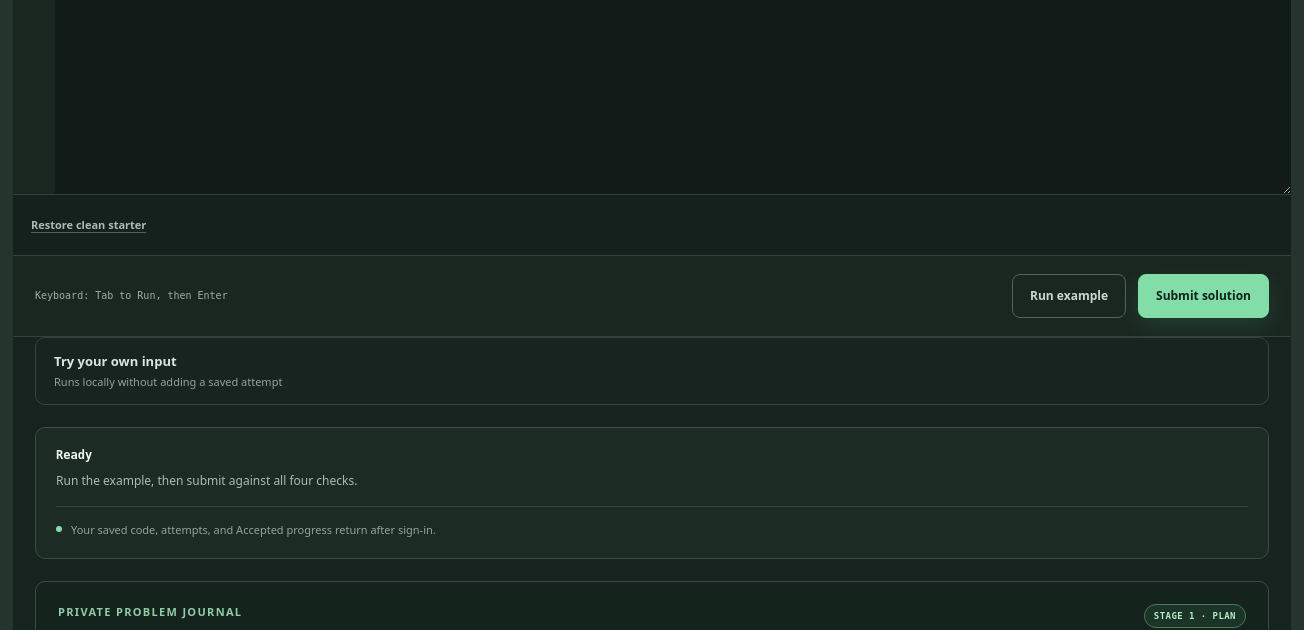
CodingWorkspace › revises and removes a private test case
(page scrolled)
Click the text "Try your own input" at (115, 361), box [54,352,177,370]
(page scrolled)
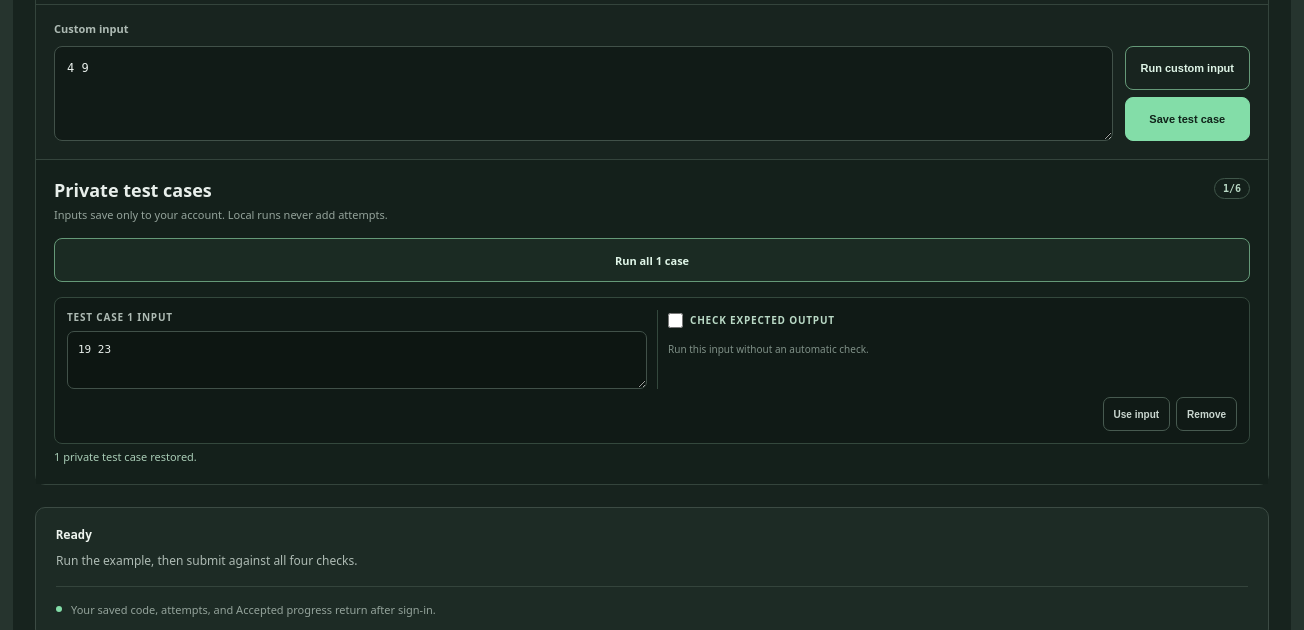
Replace the text in the text box labelled "Test case 1 input" with "21 21" at (357, 360), box [67,331,647,389]
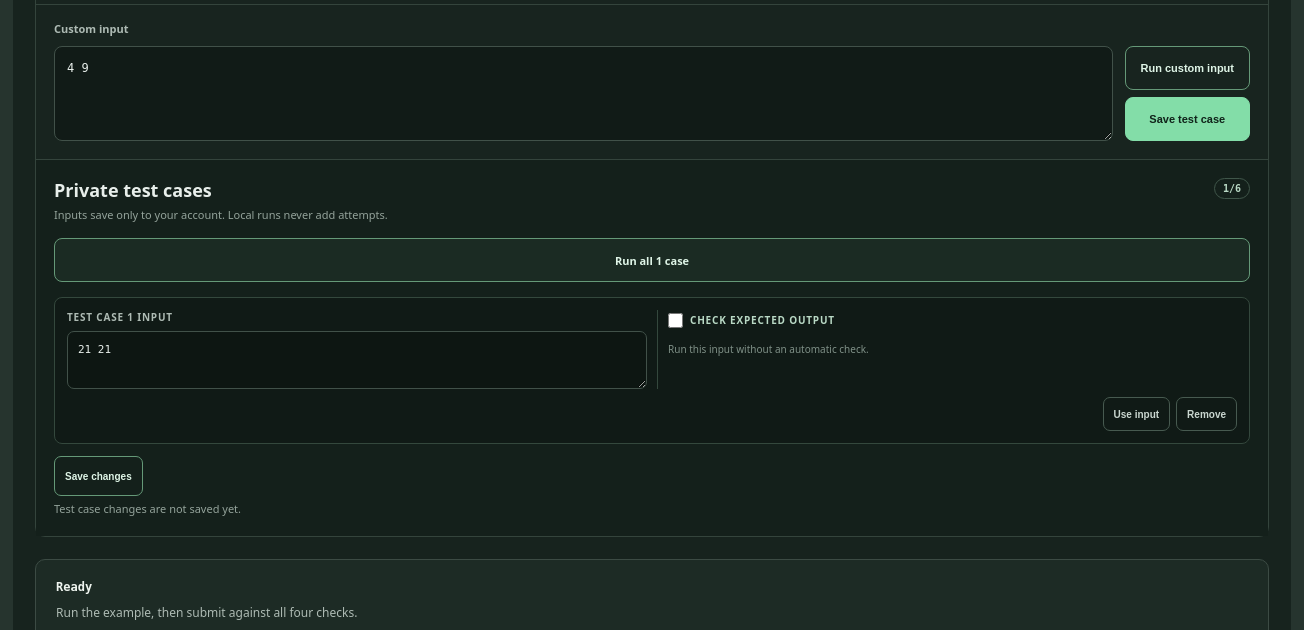
Click the checkbox labelled "Check expected output" at (676, 320), box [668,313,683,328]
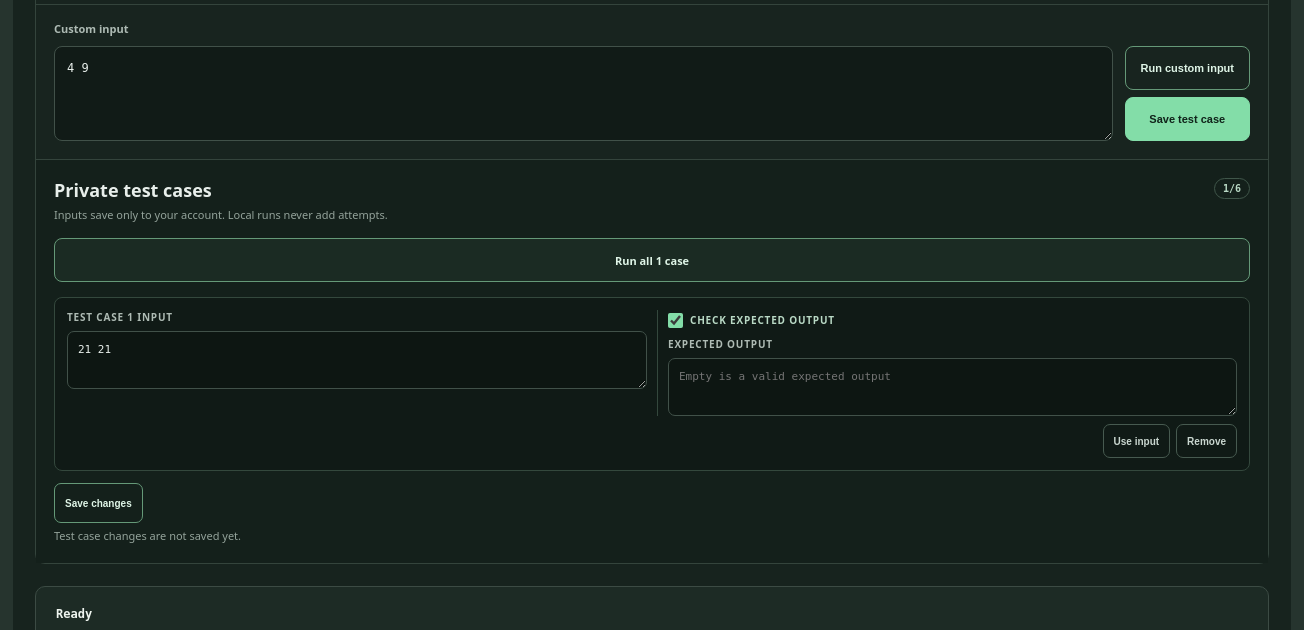
Type "42" into the text box labelled "Expected output" at (952, 387), box [668,358,1237,416]
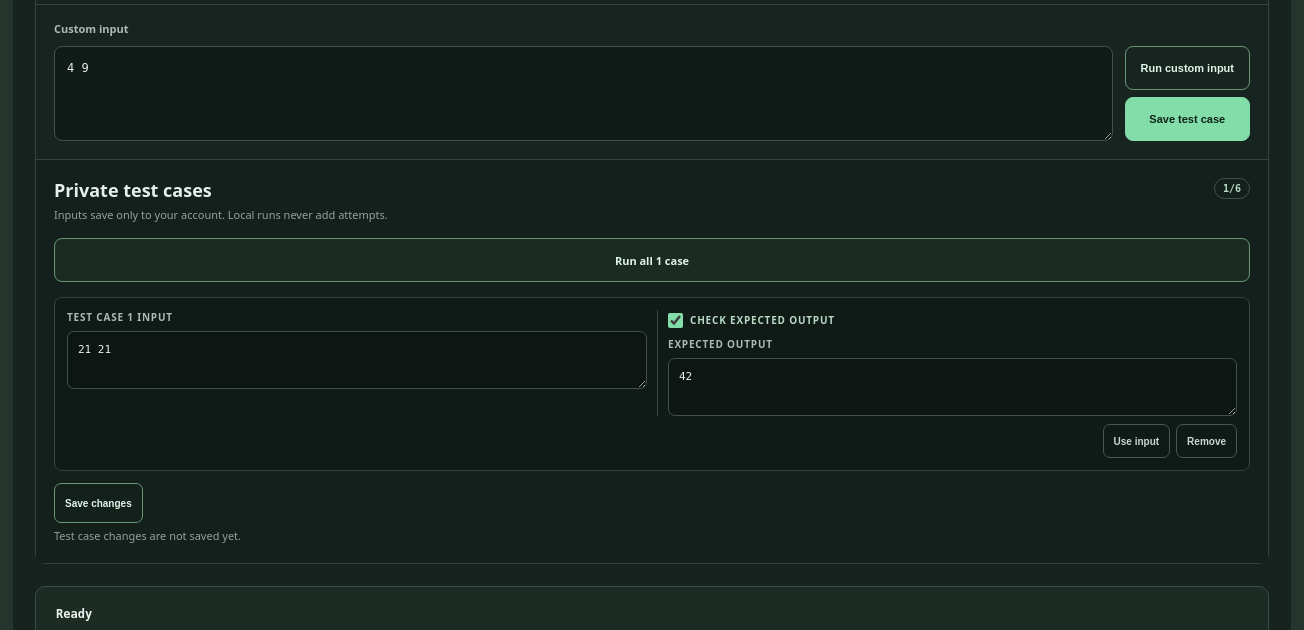
Click the button "Save changes" at (98, 503), box [54,483,143,523]
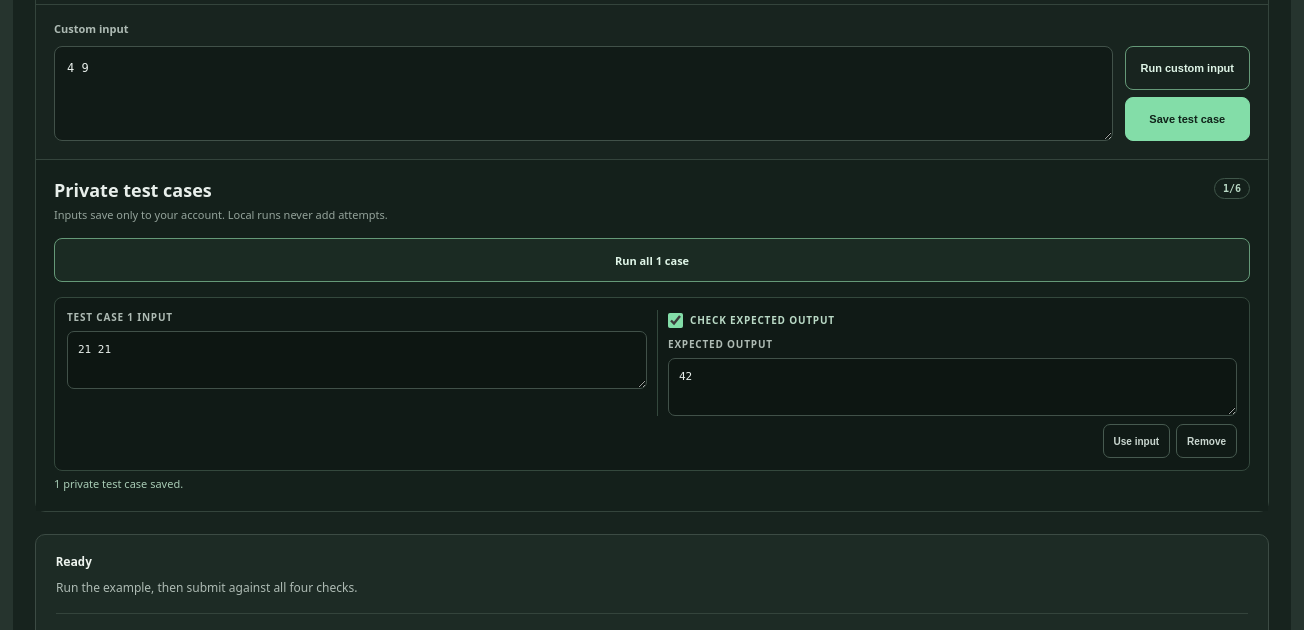
Expected: the text "1 private test case saved." is shown, [54,476,183,491]
Click the button "Remove" at (1207, 441), box [1176,424,1237,458]
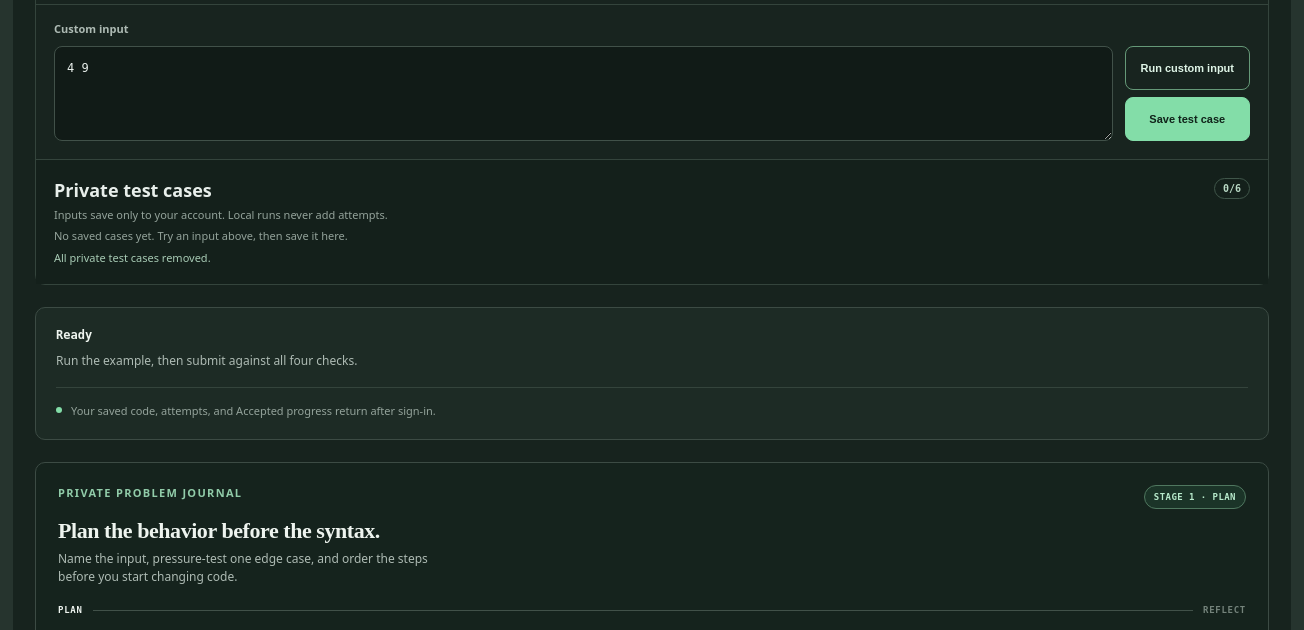
Expected: the text "All private test cases removed." is shown, [54,250,211,265]
Expected: the text "No saved cases yet. Try an input above, then save it here." is shown, [54,228,348,243]
